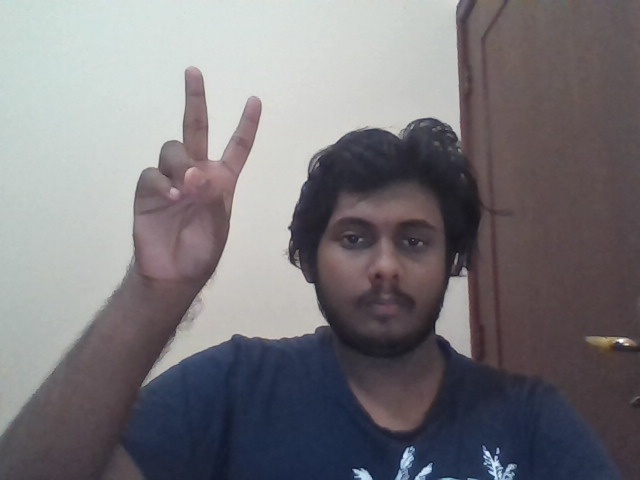peace: (132, 66, 262, 283)
